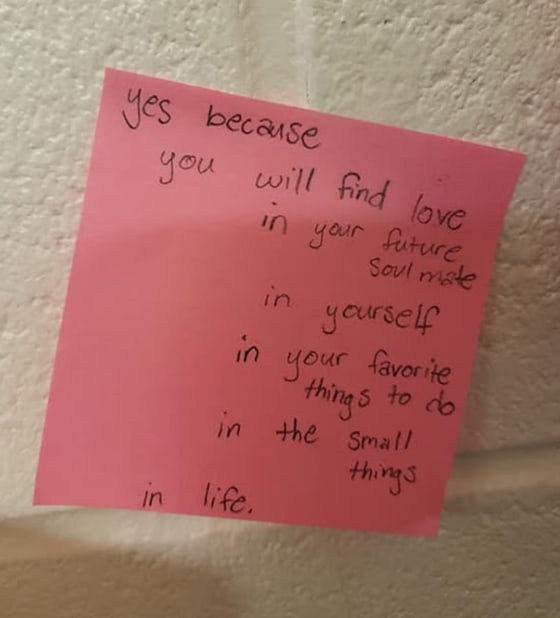Note: (37, 66, 526, 538)
